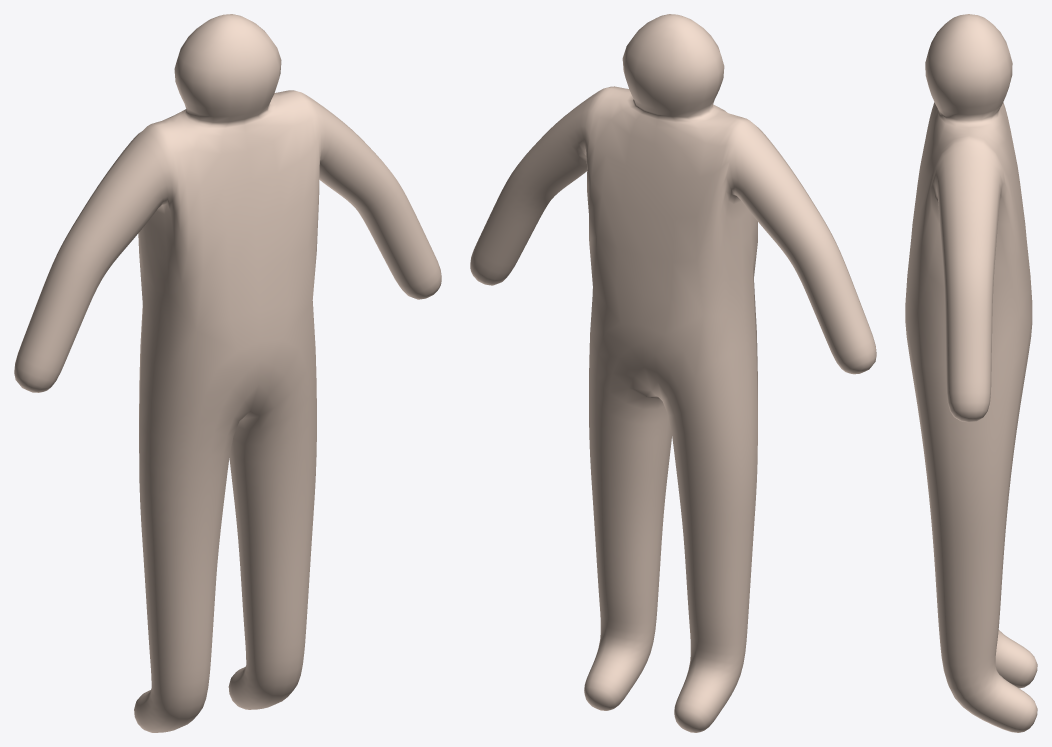
Rendered from character_A_realistic.glb.
3 views of the same model, side by side, from view 1: azimuth 30°, elevation 25°; view 2: azimuth 150°, elevation 25°; view 3: azimuth 270°, elevation 25° (orthographic). The views are drawn at different scales.
Parts seen in each view (by area): view 1: A_realistic; view 2: A_realistic; view 3: A_realistic.
Boxes of the visible parts, x1,y1,x2,y2 form: A_realistic: (14,14,441,732); A_realistic: (470,14,876,732); A_realistic: (905,14,1037,732).
Bounding box in the file's own units: 0.8913 × 1.46 × 0.2523.
